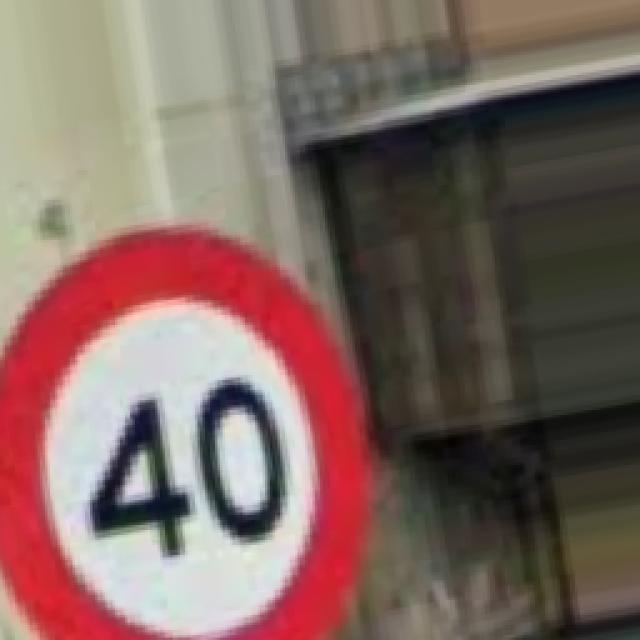Speed Limit -40-: (0, 230, 368, 638)
